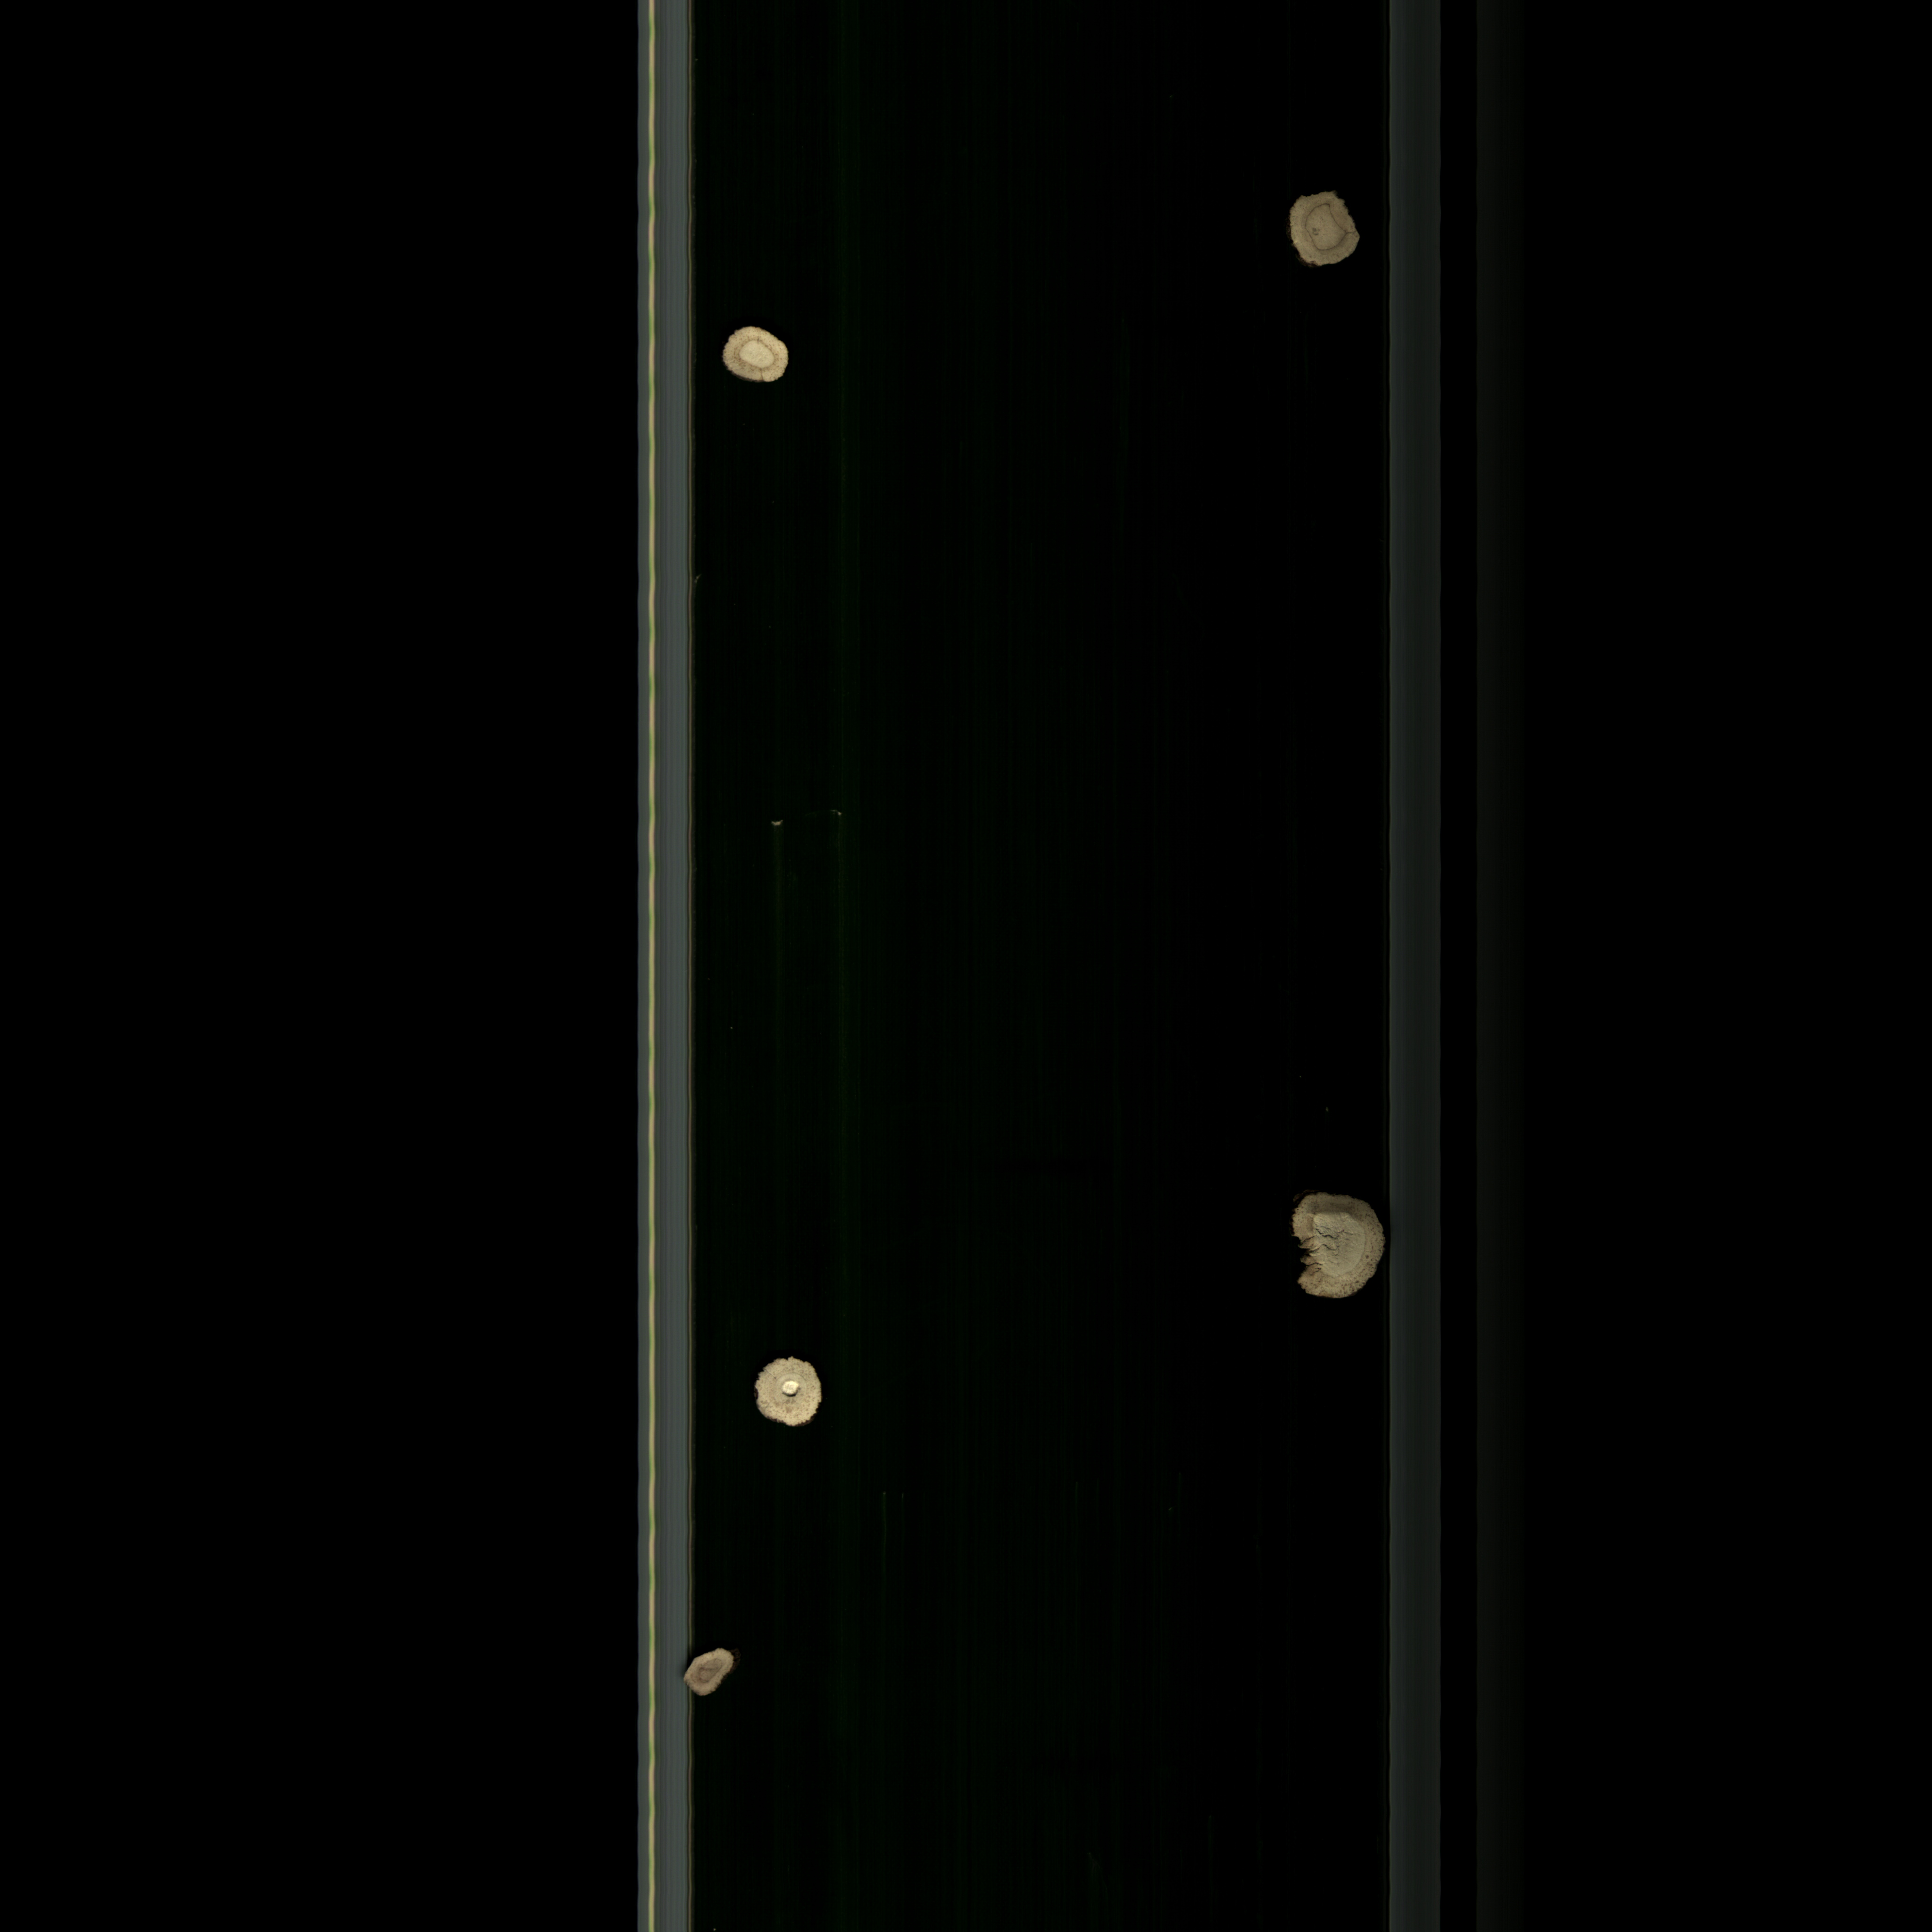hole: (741, 1350, 842, 1438)
moldy: (1281, 1184, 1387, 1315), (1277, 186, 1369, 276), (679, 1638, 745, 1702)
